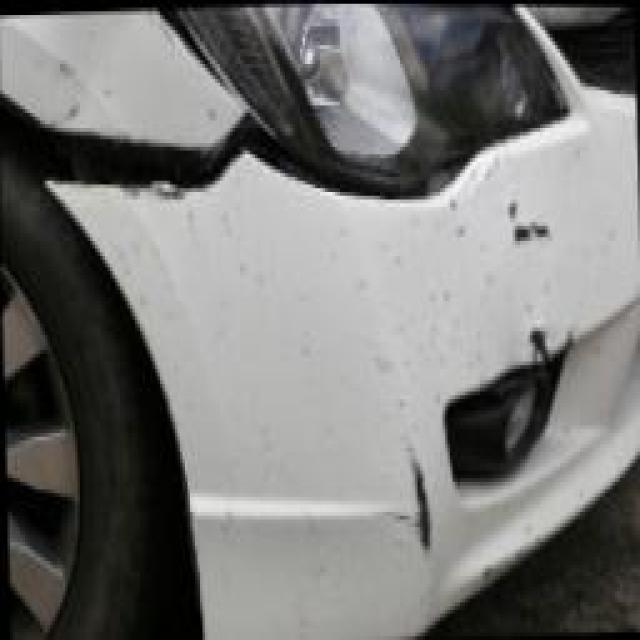Bumper: (78, 139, 619, 607)
